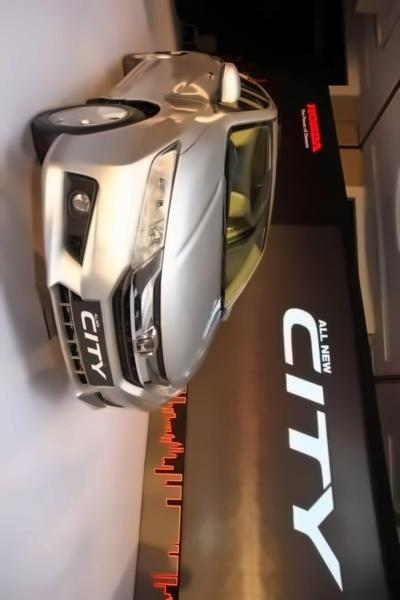Car hood: (158, 118, 228, 392)
Driver-s door - -F-R-: (118, 70, 267, 99)
Fender - -F-R-: (92, 95, 234, 157)
Front bumper: (38, 125, 149, 417)
Headlight - -L-: (140, 375, 186, 404)
Headlight - -R-: (127, 136, 184, 274)
Passenger-s door - -R-R-: (149, 53, 270, 97)
Side bumper - -R-: (99, 54, 163, 107)
Side mirror - -R-: (212, 58, 242, 111)
